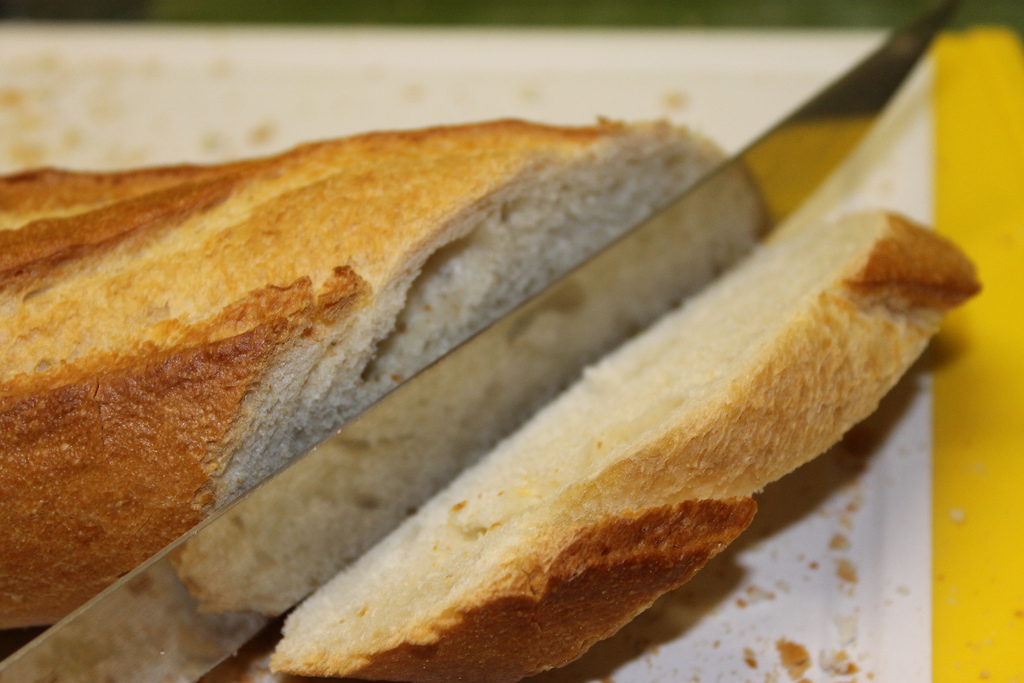slice of bread: (177, 96, 980, 668)
